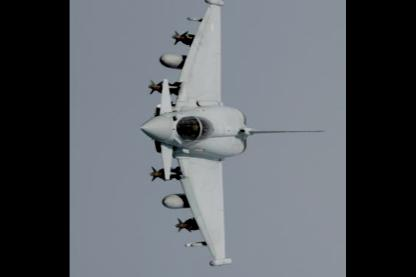E2: (140, 0, 328, 268)
